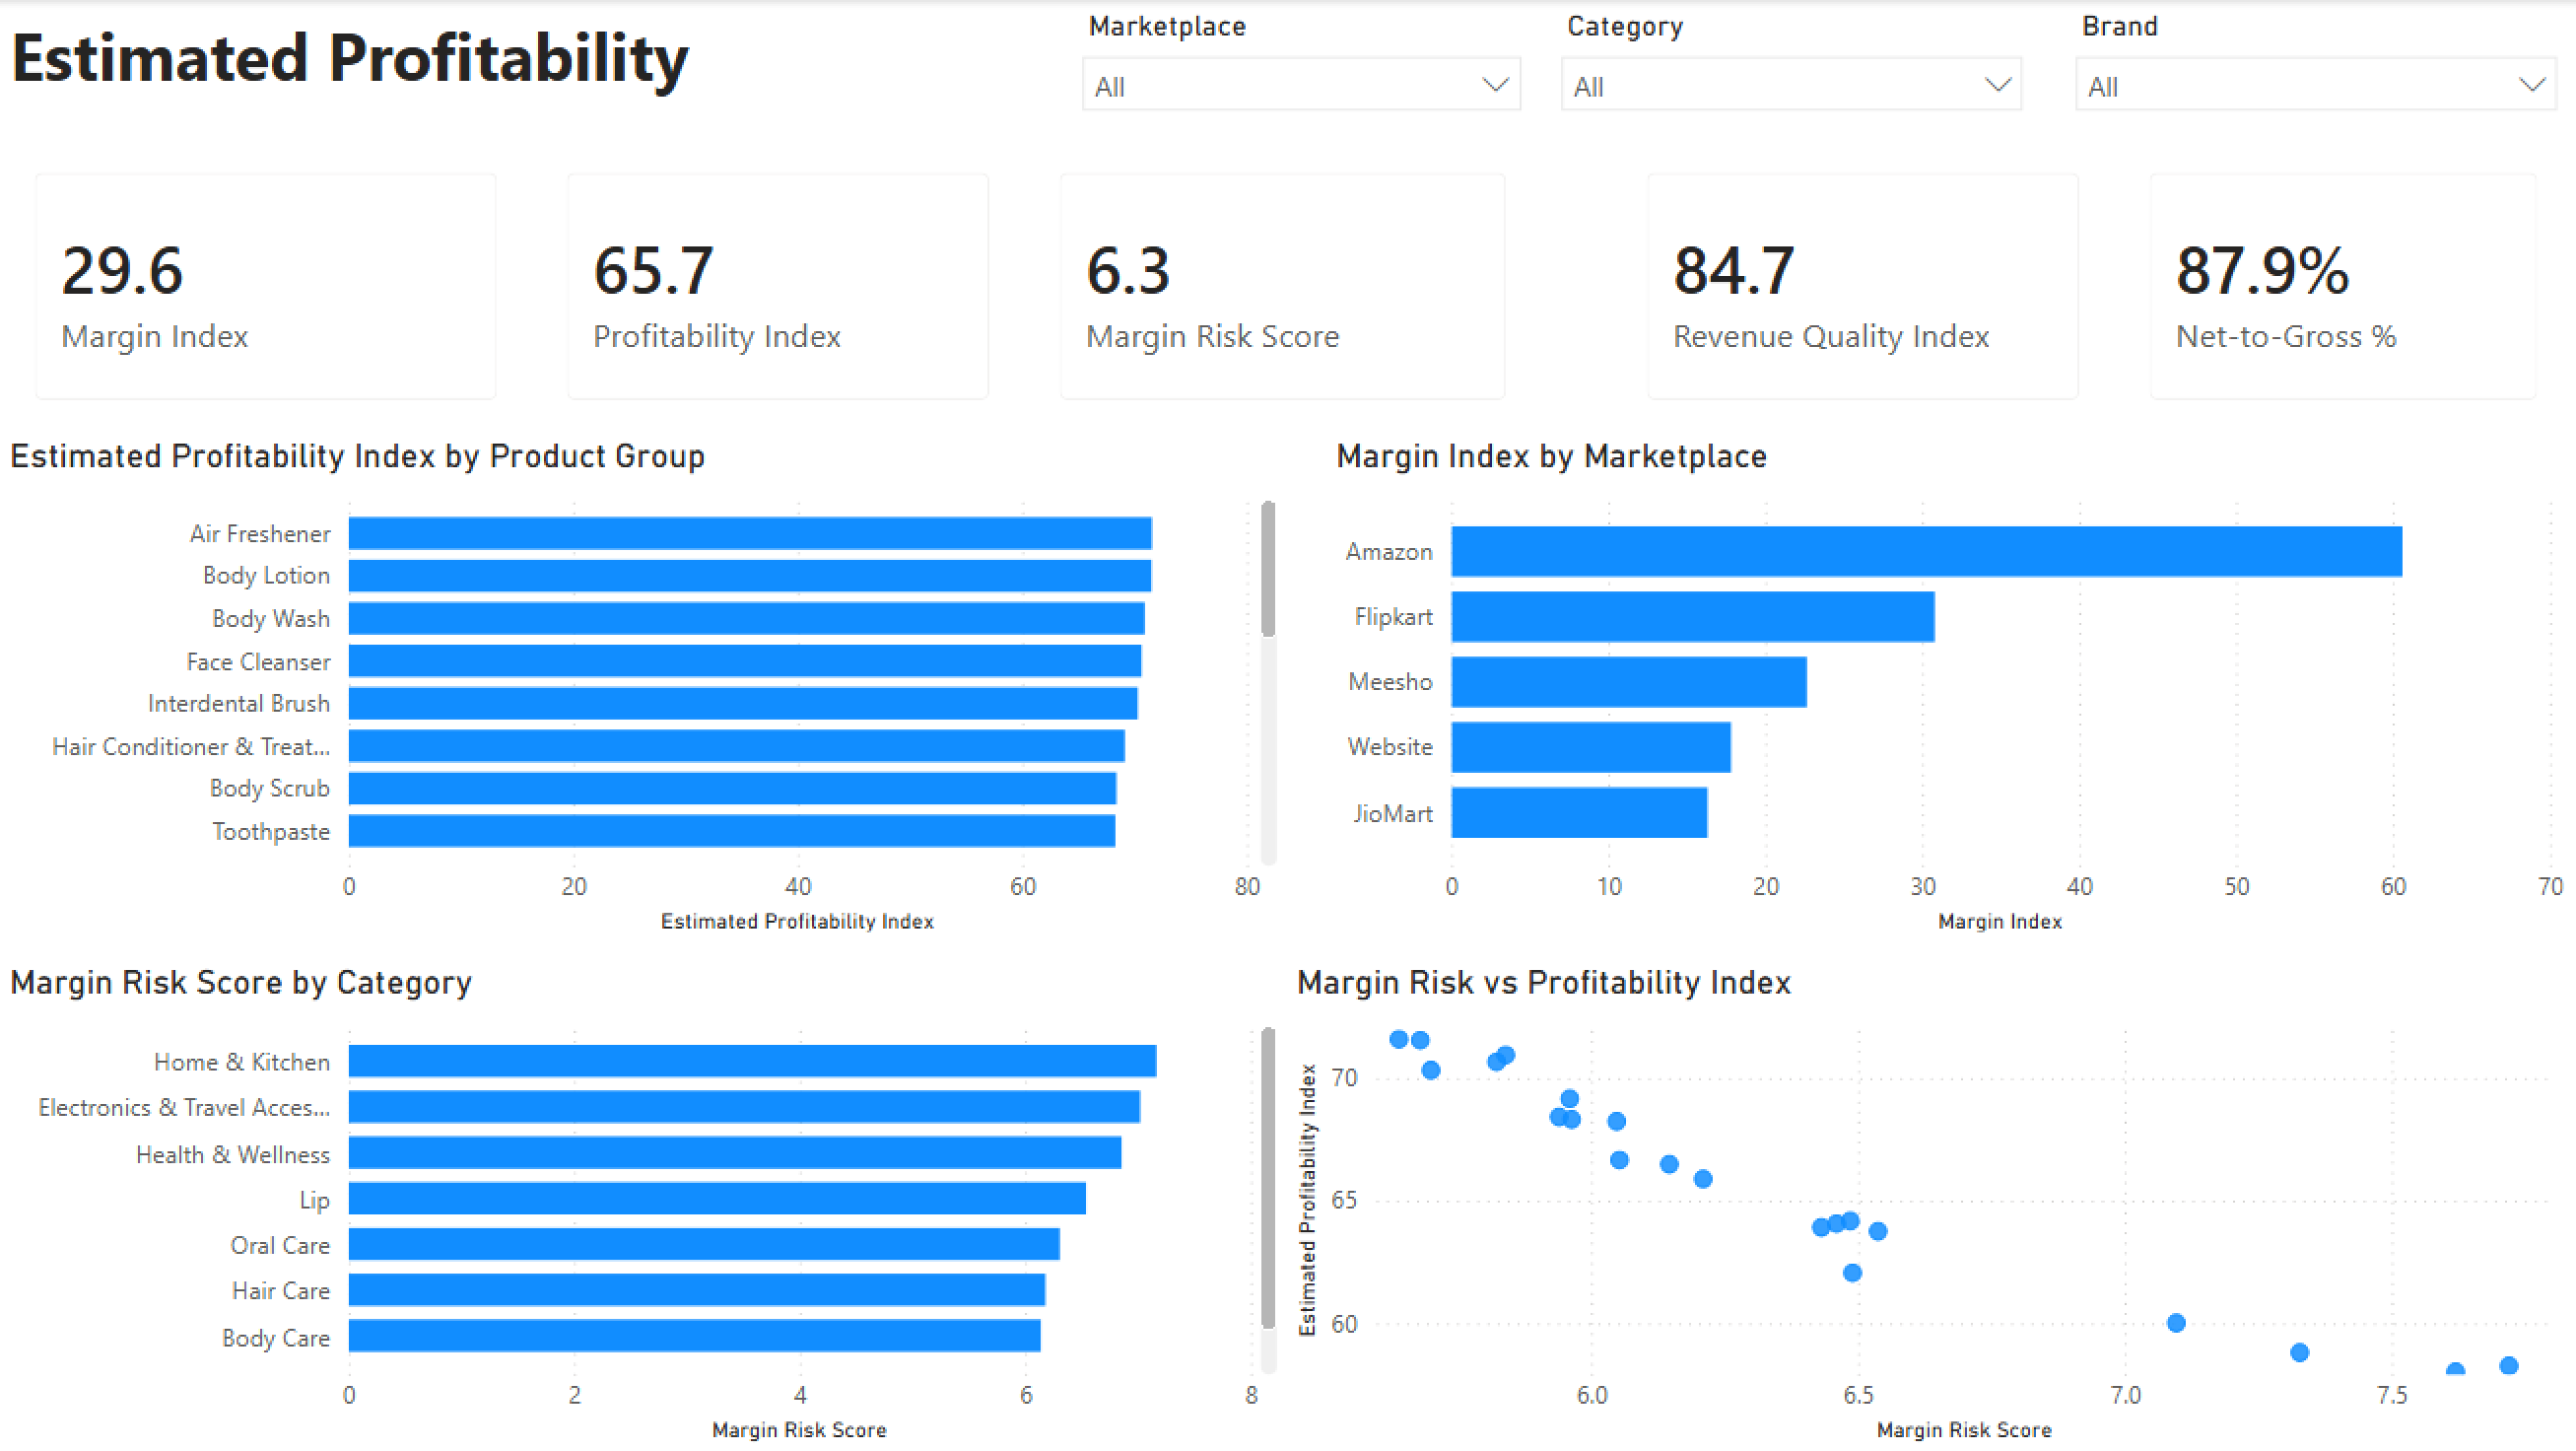

What the dashboard file says about the page in this screenshot:
{"tool":"powerbi","page":{"name":"Estimated Profitability","canvas":[1280,720],"ordinal":4},"visuals":[{"type":"textbox","box":[0,0,527.3,68.5],"z":0},{"type":"slicer","fields":{"Values":["DimMarketplace.marketplace"]},"box":[527.3,0,237.7,68.5],"z":1000},{"type":"slicer","fields":{"Values":["DimProduct.category_group"]},"box":[765,0,249.5,68.5],"z":2000},{"type":"slicer","fields":{"Values":["DimProduct.brand_group"]},"box":[1020.3,0,259.2,68.5],"z":3000},{"type":"cardVisual","fields":{"Data":["Measures (2).Margin Index"]},"box":[0,68.5,264.1,147.7],"z":4000},{"type":"cardVisual","fields":{"Data":["Measures (2).Estimated Profitability Index"]},"box":[264.1,68.5,244.6,147.7],"z":5000},{"type":"cardVisual","fields":{"Data":["Measures (2).Margin Risk Score"]},"box":[508.7,68.5,256.3,147.7],"z":6000},{"type":"cardVisual","fields":{"Data":["Measures (2).Revenue Quality Score"]},"box":[800.2,68.5,249.5,147.7],"z":7000},{"type":"cardVisual","fields":{"Data":["Measures (2).Net-to-Gross %"]},"box":[1049.7,68.5,227.9,147.7],"z":8000},{"type":"clusteredBarChart","title":"Estimated Profitability Index by Product Group","fields":{"Category":["DimProduct.product_group"],"Y":["Measures (2).Estimated Profitability Index"]},"box":[0,216.2,638.8,251.4],"z":10000},{"type":"clusteredBarChart","title":"Margin Risk Score by Category","fields":{"Category":["DimProduct.category_group"],"Y":["Measures (2).Margin Risk Score"]},"box":[0,477.4,638.8,242.6],"z":11000},{"type":"scatterChart","title":"Margin Risk vs Profitability Index","fields":{"X":["Measures (2).Margin Risk Score"],"Y":["Measures (2).Estimated Profitability Index"],"Category":["DimProduct.product_group"]},"box":[638.8,477.4,640.8,242.6],"z":12000},{"type":"clusteredBarChart","title":"Margin Index by Marketplace","fields":{"Category":["DimMarketplace.marketplace"],"Y":["Measures (2).Margin Index"]},"box":[658.4,216.2,619.2,251.4],"z":13000}]}

Visuals, with their boxes in screenshot pixels (x1, y1, x2, y2), scaled from the page's 1280x720 canvas onto the 2576x1451 screenshot:
textbox: [0, 0, 1061, 138]
slicer - DimMarketplace.marketplace: [1061, 0, 1539, 138]
slicer - DimProduct.category_group: [1539, 0, 2042, 138]
slicer - DimProduct.brand_group: [2054, 0, 2575, 138]
cardVisual - Measures (2).Margin Index: [0, 138, 531, 436]
cardVisual - Measures (2).Estimated Profitability Index: [531, 138, 1024, 436]
cardVisual - Measures (2).Margin Risk Score: [1024, 138, 1539, 436]
cardVisual - Measures (2).Revenue Quality Score: [1610, 138, 2113, 436]
cardVisual - Measures (2).Net-to-Gross %: [2113, 138, 2571, 436]
"Estimated Profitability Index by Product Group" clusteredBarChart: [0, 436, 1286, 942]
"Margin Risk Score by Category" clusteredBarChart: [0, 962, 1286, 1450]
"Margin Risk vs Profitability Index" scatterChart: [1286, 962, 2575, 1450]
"Margin Index by Marketplace" clusteredBarChart: [1325, 436, 2571, 942]
